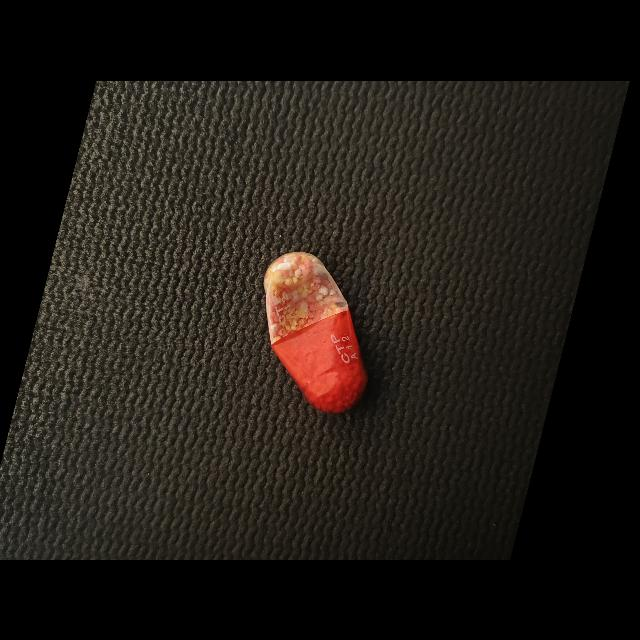Defective Capsule: (264, 251, 367, 413)
